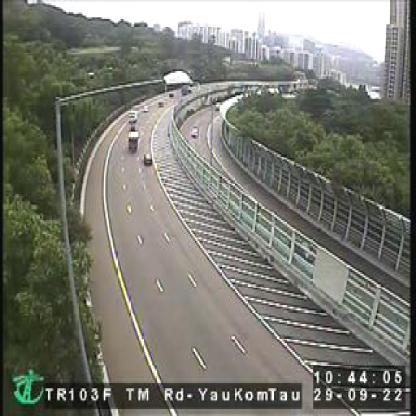Car: (142, 150, 153, 164), (191, 128, 200, 140)
Truck: (126, 132, 139, 152)
